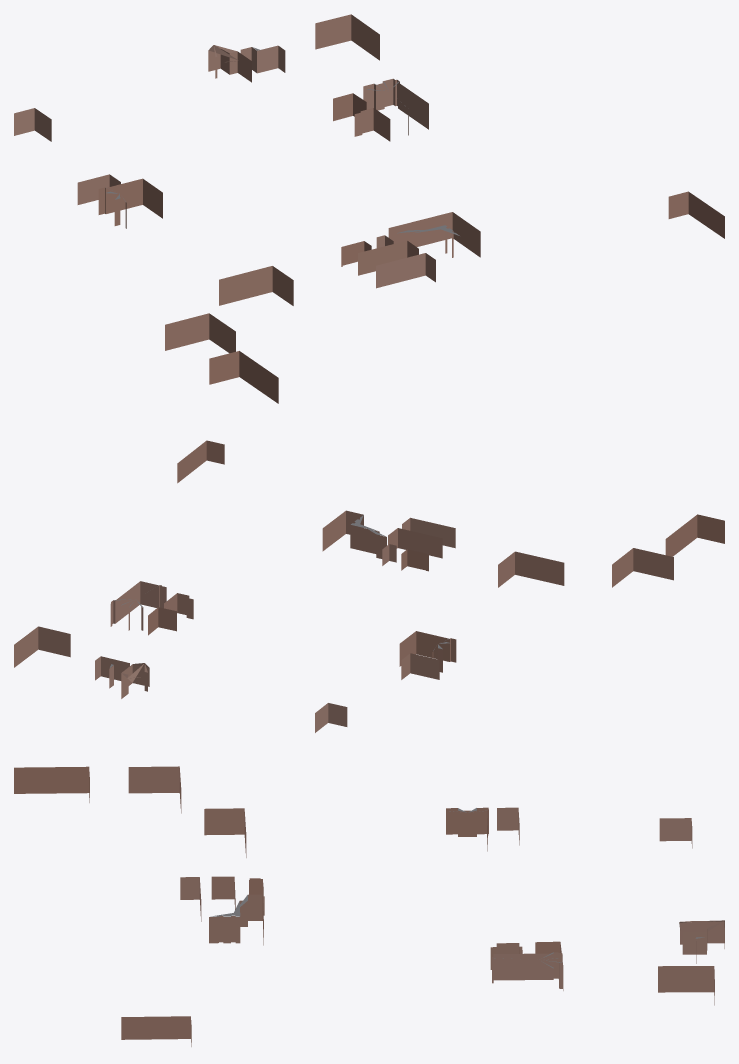
The model's file is c_1634_17825_buildings_residential.glb.
3 views of the same model, one above another, from view 1: azimuth 30°, elevation 25°; view 2: azimuth 150°, elevation 25°; view 3: azimuth 270°, elevation 25° (orthographic). The views are drawn at different scales.
Visible parts, largest first — view 1: geometry_0; view 2: geometry_0; view 3: geometry_0.
Boxes of the visible parts, x1,y1,x2,y2 form: geometry_0: (14, 14, 724, 403); geometry_0: (14, 440, 724, 732); geometry_0: (14, 766, 724, 1046).
Size of the model in its own units: 233 by 13.37 by 269.
